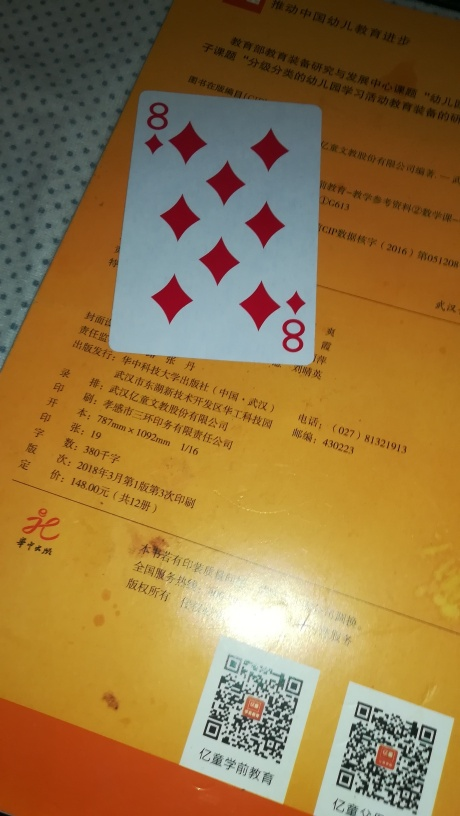fk 8: (108, 89, 321, 365)
